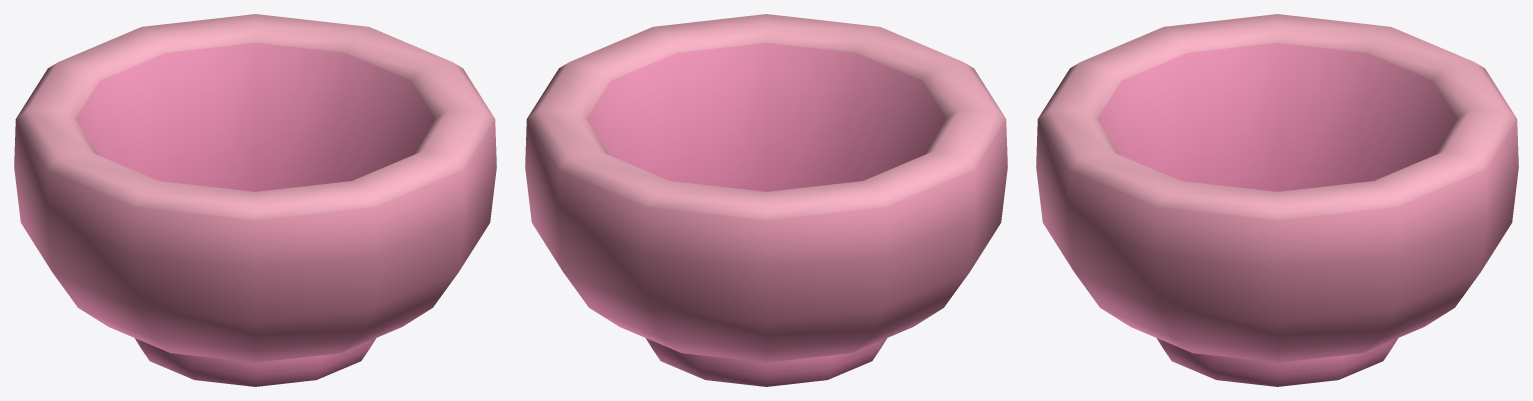
The model's file is bowl.glb.
3 renders of one model, left to right at view 1: azimuth 30°, elevation 25°; view 2: azimuth 150°, elevation 25°; view 3: azimuth 270°, elevation 25°, orthographic.
Visible parts, largest first — view 1: bowl; view 2: bowl; view 3: bowl.
Part boxes in pixels (x1,y1,x2,y2): bowl: [14, 14, 496, 386]; bowl: [525, 14, 1007, 386]; bowl: [1036, 14, 1518, 386].
Bounding box in the file's own units: 0.4 × 0.2058 × 0.4.
1 material, 1 textured.
